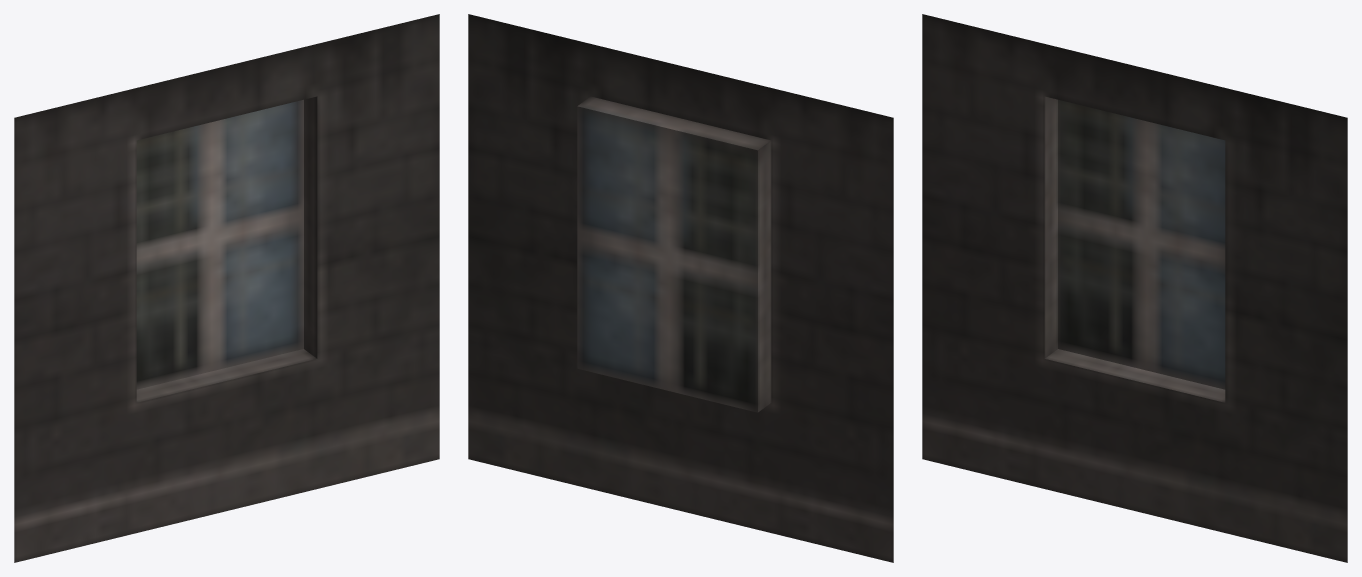
File: B7_WindowB.FBX
3 renders of one model, left to right at view 1: azimuth 30°, elevation 25°; view 2: azimuth 150°, elevation 25°; view 3: azimuth 330°, elevation 25°, orthographic.
Visible parts, largest first — view 1: B7_WindowB; view 2: B7_WindowB; view 3: B7_WindowB.
Boxes of the visible parts, box(x1,y1,x2,y2) form: B7_WindowB: box(14, 14, 439, 562); B7_WindowB: box(468, 14, 893, 562); B7_WindowB: box(922, 14, 1347, 562).
Size of the model in its own units: 4 by 4 by 0.2192.
